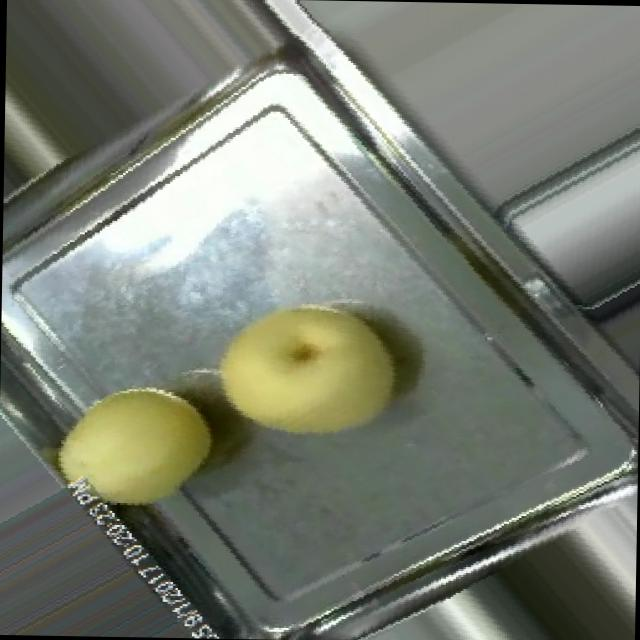Fruit: (196, 284, 417, 460), (41, 372, 228, 528)
